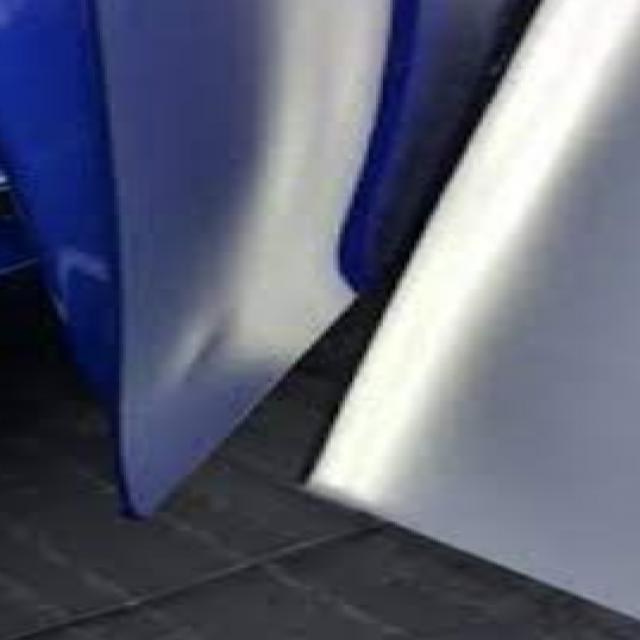dents: (144, 308, 276, 405)
